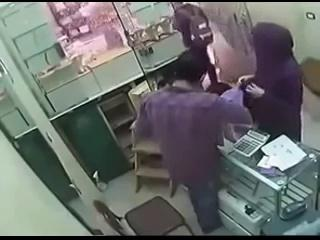Normal: (132, 51, 255, 232), (238, 22, 304, 142), (92, 196, 194, 236), (232, 128, 271, 158)
